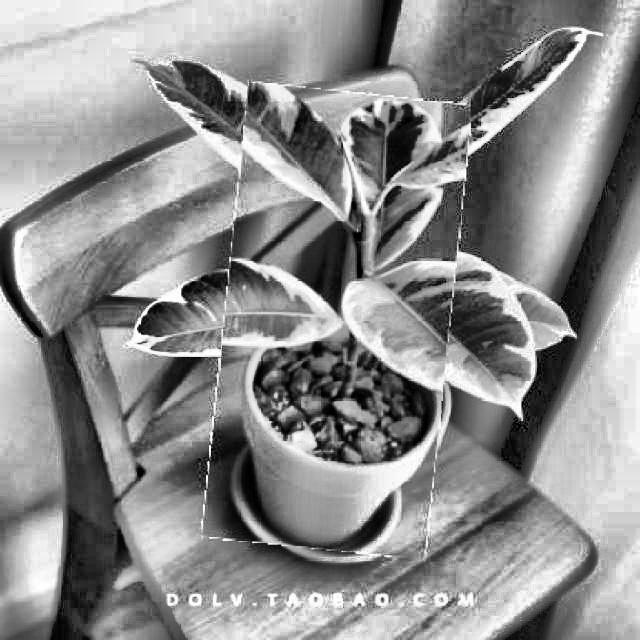plants: (213, 88, 462, 554)
